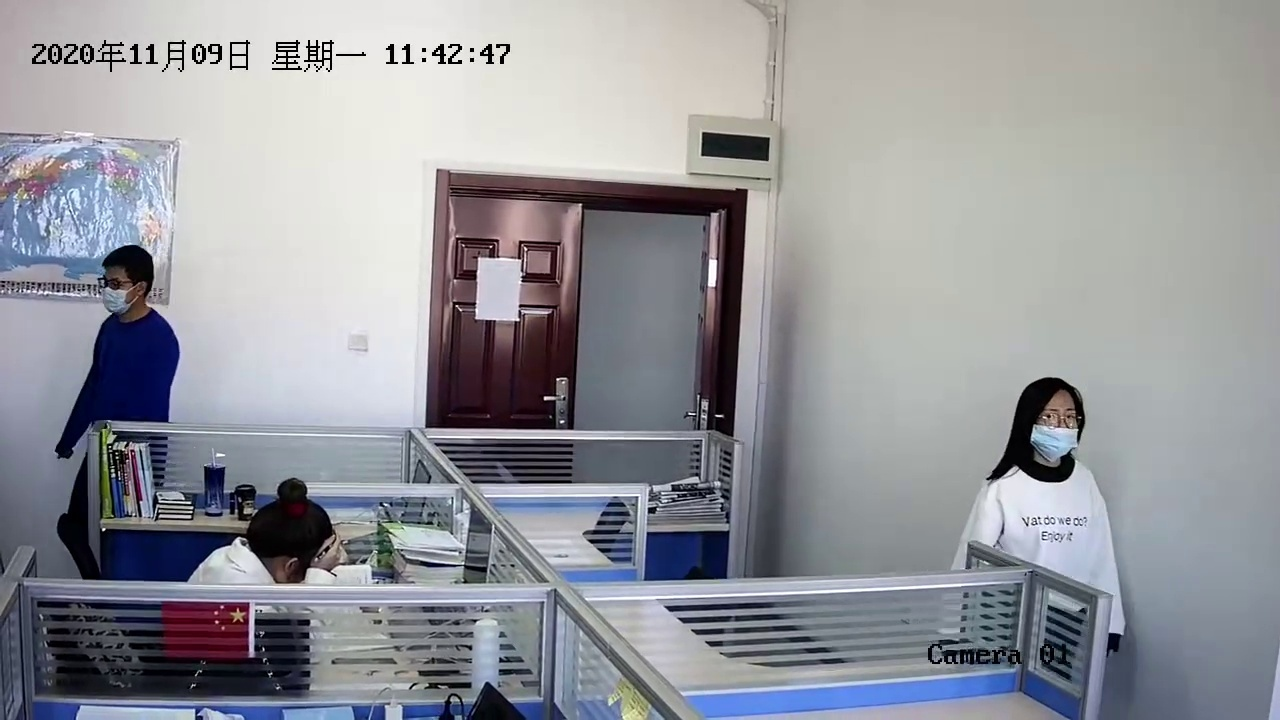mask: (1013, 385, 1092, 466), (97, 254, 150, 318)
